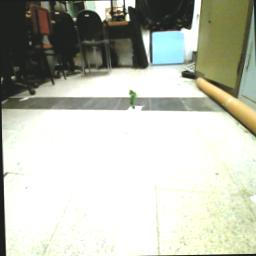herb: (127, 90, 139, 113)
